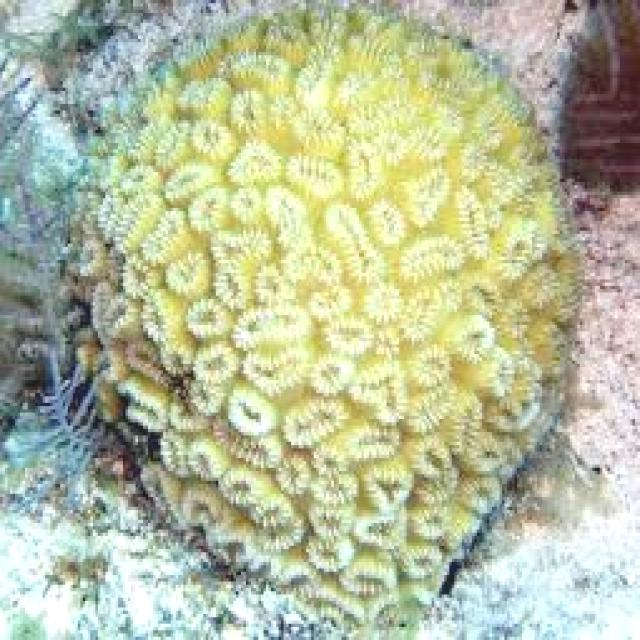Coral: (66, 0, 584, 640)
